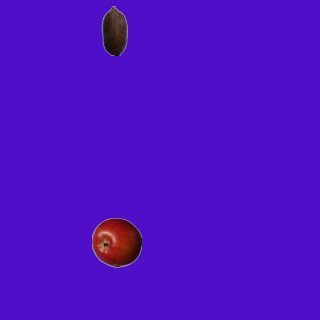Apple Braeburn: (91, 217, 141, 267)
Nut Pecan: (89, 5, 139, 55)
